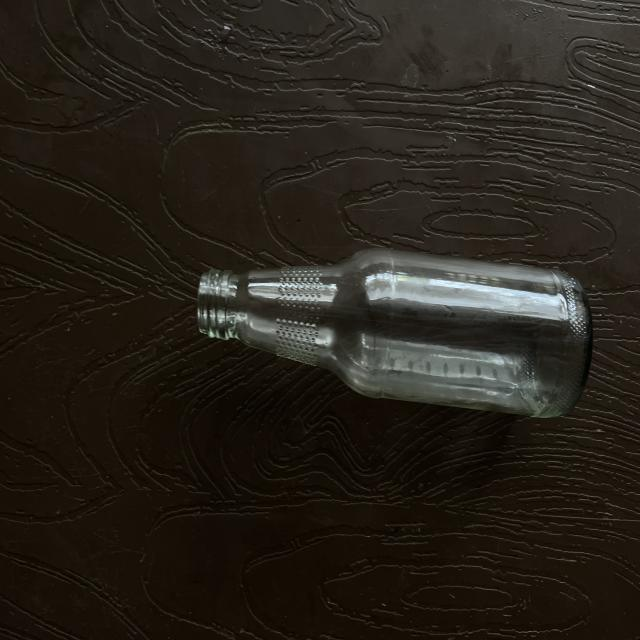Glass_Bottle: (198, 248, 592, 417)
